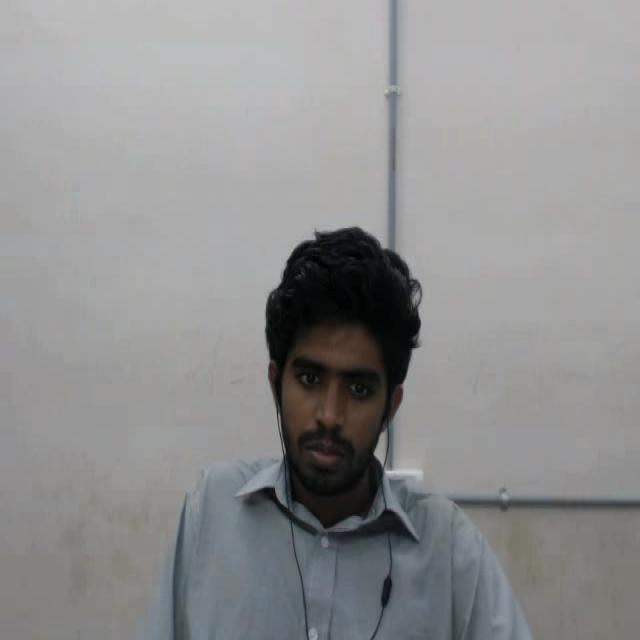Engaged: (256, 197, 428, 540)
